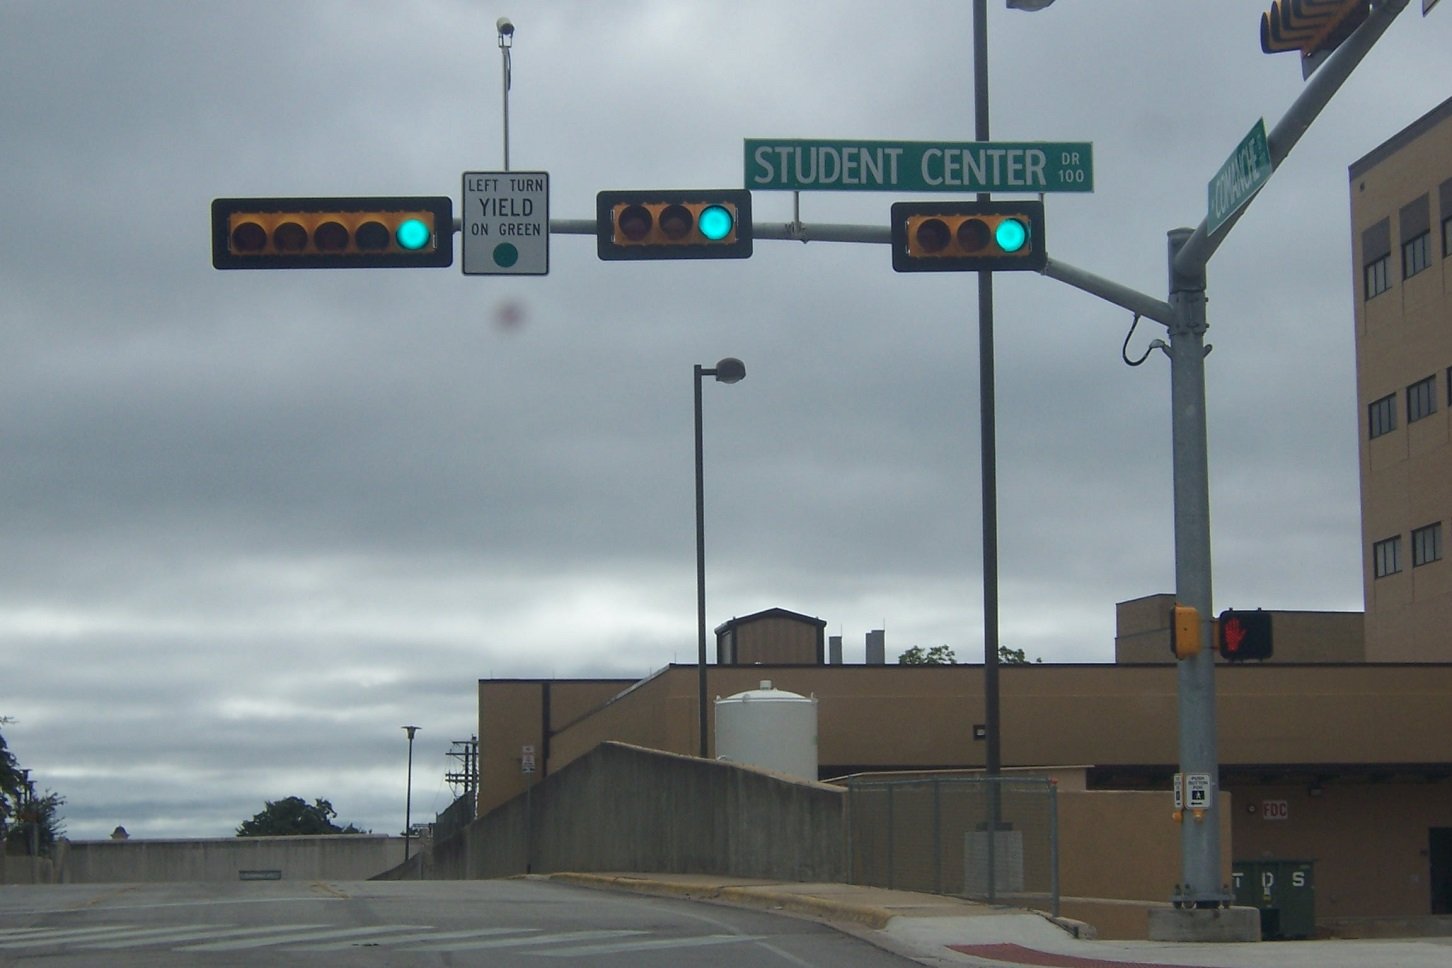traffic_light: (226, 209, 439, 258), (611, 200, 740, 248), (905, 212, 1034, 260)
